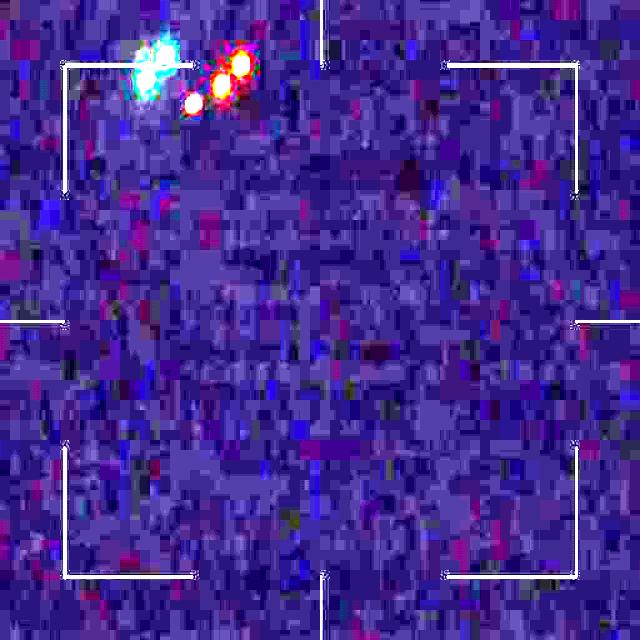bird: (136, 42, 250, 112)
